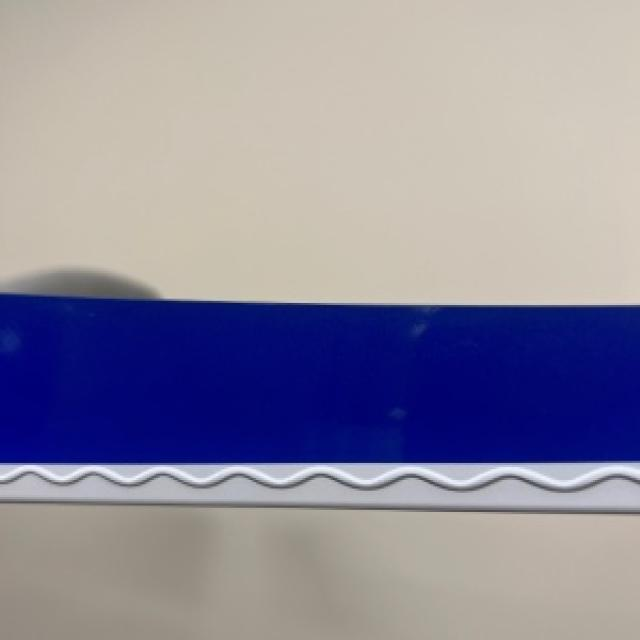healthy: (0, 294, 638, 512)
